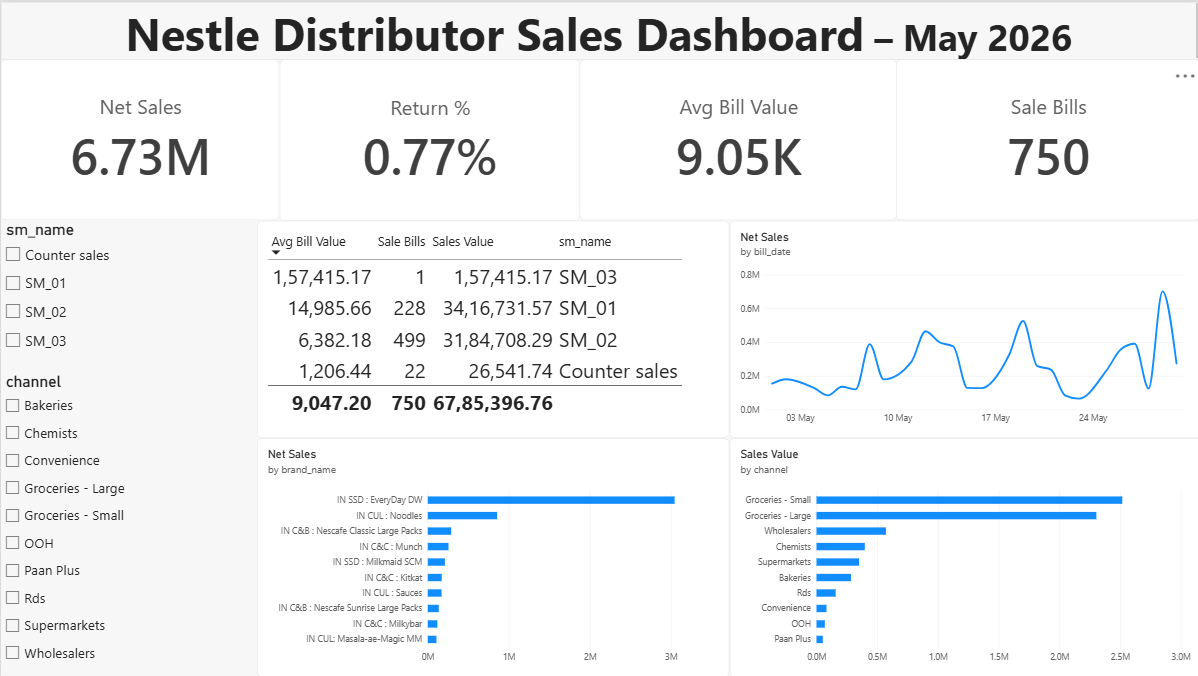

What the dashboard file says about the page in this screenshot:
{"tool":"powerbi","page":{"name":"Overview","canvas":[1920,1080],"ordinal":0},"visuals":[{"type":"cardVisual","fields":{"Data":["sale_lines.Net Sales"]},"box":[0,92.5,445,257.5],"z":0},{"type":"cardVisual","fields":{"Data":["sale_lines.Sale Bills"]},"box":[1432.5,92.5,487.5,257.5],"z":1000},{"type":"cardVisual","fields":{"Data":["sale_lines.Avg Bill Value"]},"box":[925,92.5,507.5,257.5],"z":2000},{"type":"cardVisual","fields":{"Data":["bills.Return %"]},"box":[445,92.5,480,258],"z":3000},{"type":"clusteredBarChart","fields":{"Category":["products.brand_name"],"Y":["sale_lines.Net Sales"]},"box":[410,697.5,755,382.5],"z":4000},{"type":"clusteredBarChart","fields":{"Category":["retailers.channel"],"Y":["sale_lines.Sales Value"]},"box":[1165,697.5,755,382.5],"z":5000},{"type":"lineChart","fields":{"Category":["bills.bill_date"],"Y":["sale_lines.Net Sales"]},"box":[1165,350,755,347.5],"z":6000},{"type":"tableEx","fields":{"Values":["sale_lines.Avg Bill Value","sale_lines.Sale Bills","sale_lines.Sales Value","salesmen.sm_name"]},"box":[410,350,755,347.5],"z":7000},{"type":"slicer","fields":{"Values":["retailers.channel"]},"box":[0,592.5,397.5,485],"z":8000},{"type":"slicer","fields":{"Values":["salesmen.sm_name"]},"box":[0,350,410,242.5],"z":9000},{"type":"textbox","box":[0,0,1920,92.5],"z":10001}]}

Visuals, with their boxes in screenshot pixels (x1, y1, x2, y2), scaled from the page's 1920x1080 canvas onto the 1198x676 screenshot:
cardVisual - sale_lines.Net Sales: [left=0, top=58, right=278, bottom=219]
cardVisual - sale_lines.Sale Bills: [left=894, top=58, right=1197, bottom=219]
cardVisual - sale_lines.Avg Bill Value: [left=577, top=58, right=894, bottom=219]
cardVisual - bills.Return %: [left=278, top=58, right=577, bottom=219]
clusteredBarChart - products.brand_name x sale_lines.Net Sales: [left=256, top=437, right=727, bottom=675]
clusteredBarChart - retailers.channel x sale_lines.Sales Value: [left=727, top=437, right=1197, bottom=675]
lineChart - bills.bill_date x sale_lines.Net Sales: [left=727, top=219, right=1197, bottom=437]
tableEx - sale_lines.Avg Bill Value x sale_lines.Sale Bills: [left=256, top=219, right=727, bottom=437]
slicer - retailers.channel: [left=0, top=371, right=248, bottom=674]
slicer - salesmen.sm_name: [left=0, top=219, right=256, bottom=371]
textbox: [left=0, top=0, right=1197, bottom=58]
